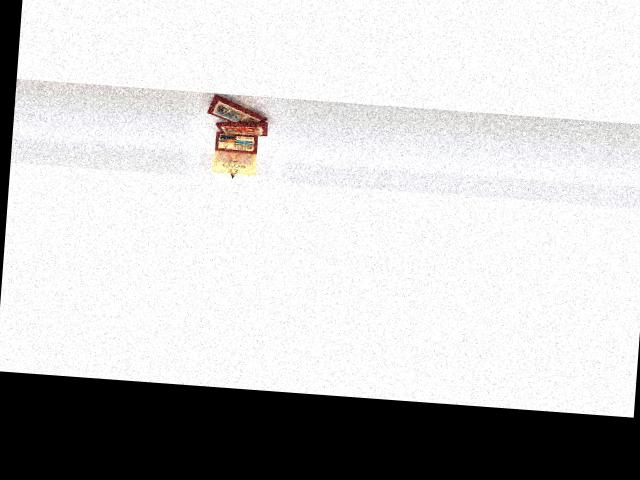chocolate: (194, 88, 272, 128)
